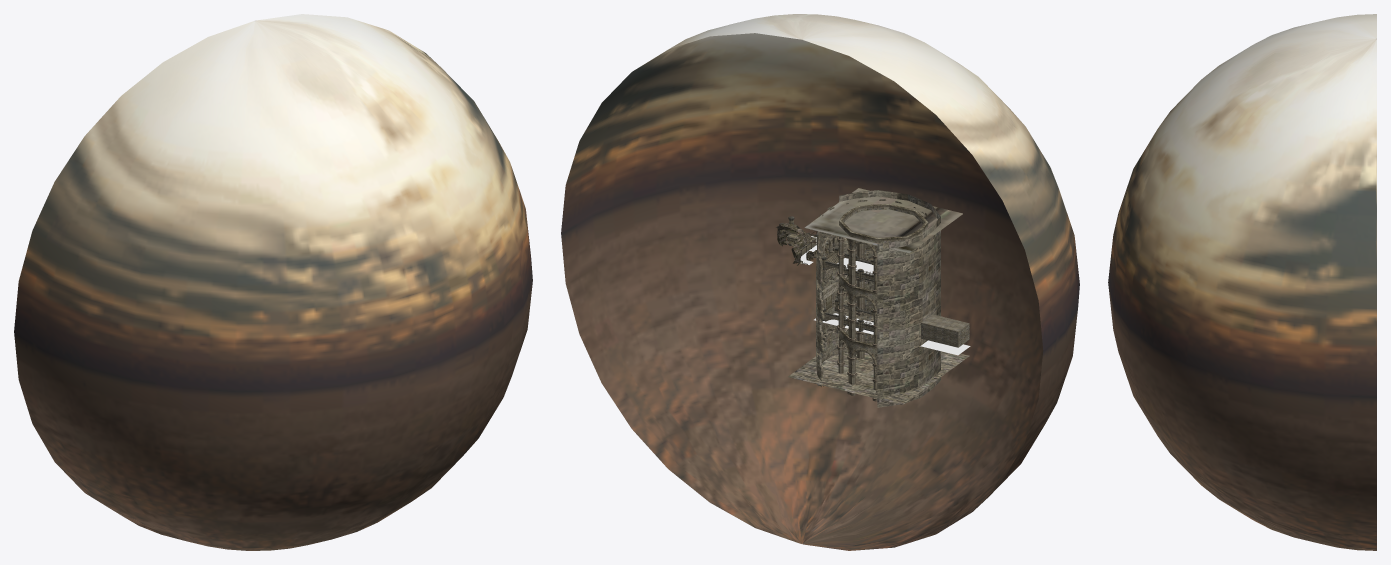
File: stageProb.fbx
3 renders of one model, left to right at view 1: azimuth 30°, elevation 25°; view 2: azimuth 150°, elevation 25°; view 3: azimuth 270°, elevation 25°, orthographic. The views are drawn at different scales.
Parts seen in each view (by area): view 1: skySphere; view 2: skySphere, mapDungeon001, tower_body, inTower01, Group002, indungeon_d_01; view 3: skySphere.
Part boxes in pixels (bbox=[...]): skySphere: bbox=[14, 14, 532, 550]; skySphere: bbox=[561, 14, 1079, 550]; mapDungeon001: bbox=[786, 190, 969, 407]; tower_body: bbox=[788, 188, 969, 404]; inTower01: bbox=[837, 204, 928, 347]; Group002: bbox=[837, 313, 877, 401]; indungeon_d_01: bbox=[776, 223, 828, 265]; skySphere: bbox=[1108, 14, 1376, 550].
Bounding box in the file's own units: 468 × 468 × 234.
7 materials, 6 textured.
